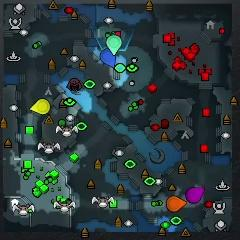p1: (100, 49, 116, 68)
p2: (107, 35, 121, 56)
p3: (187, 187, 204, 204)
p4: (29, 98, 50, 114)
p5: (167, 196, 187, 212)
